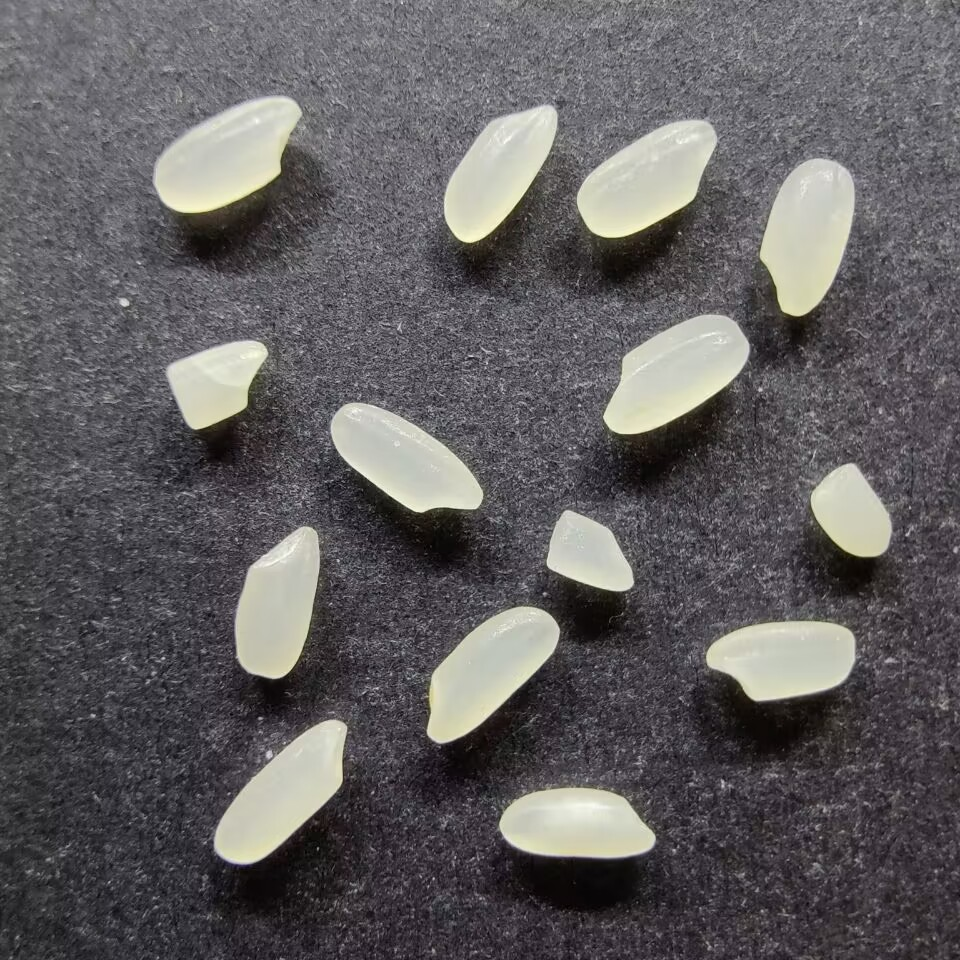broken: (167, 339, 271, 434), (808, 460, 893, 558), (545, 508, 635, 593)
rice: (211, 715, 347, 866), (423, 604, 560, 745), (599, 314, 751, 435), (151, 94, 302, 214), (328, 401, 486, 514), (574, 118, 719, 239), (441, 102, 558, 243), (757, 157, 858, 316), (232, 524, 321, 680), (703, 619, 856, 702), (497, 786, 657, 859)
